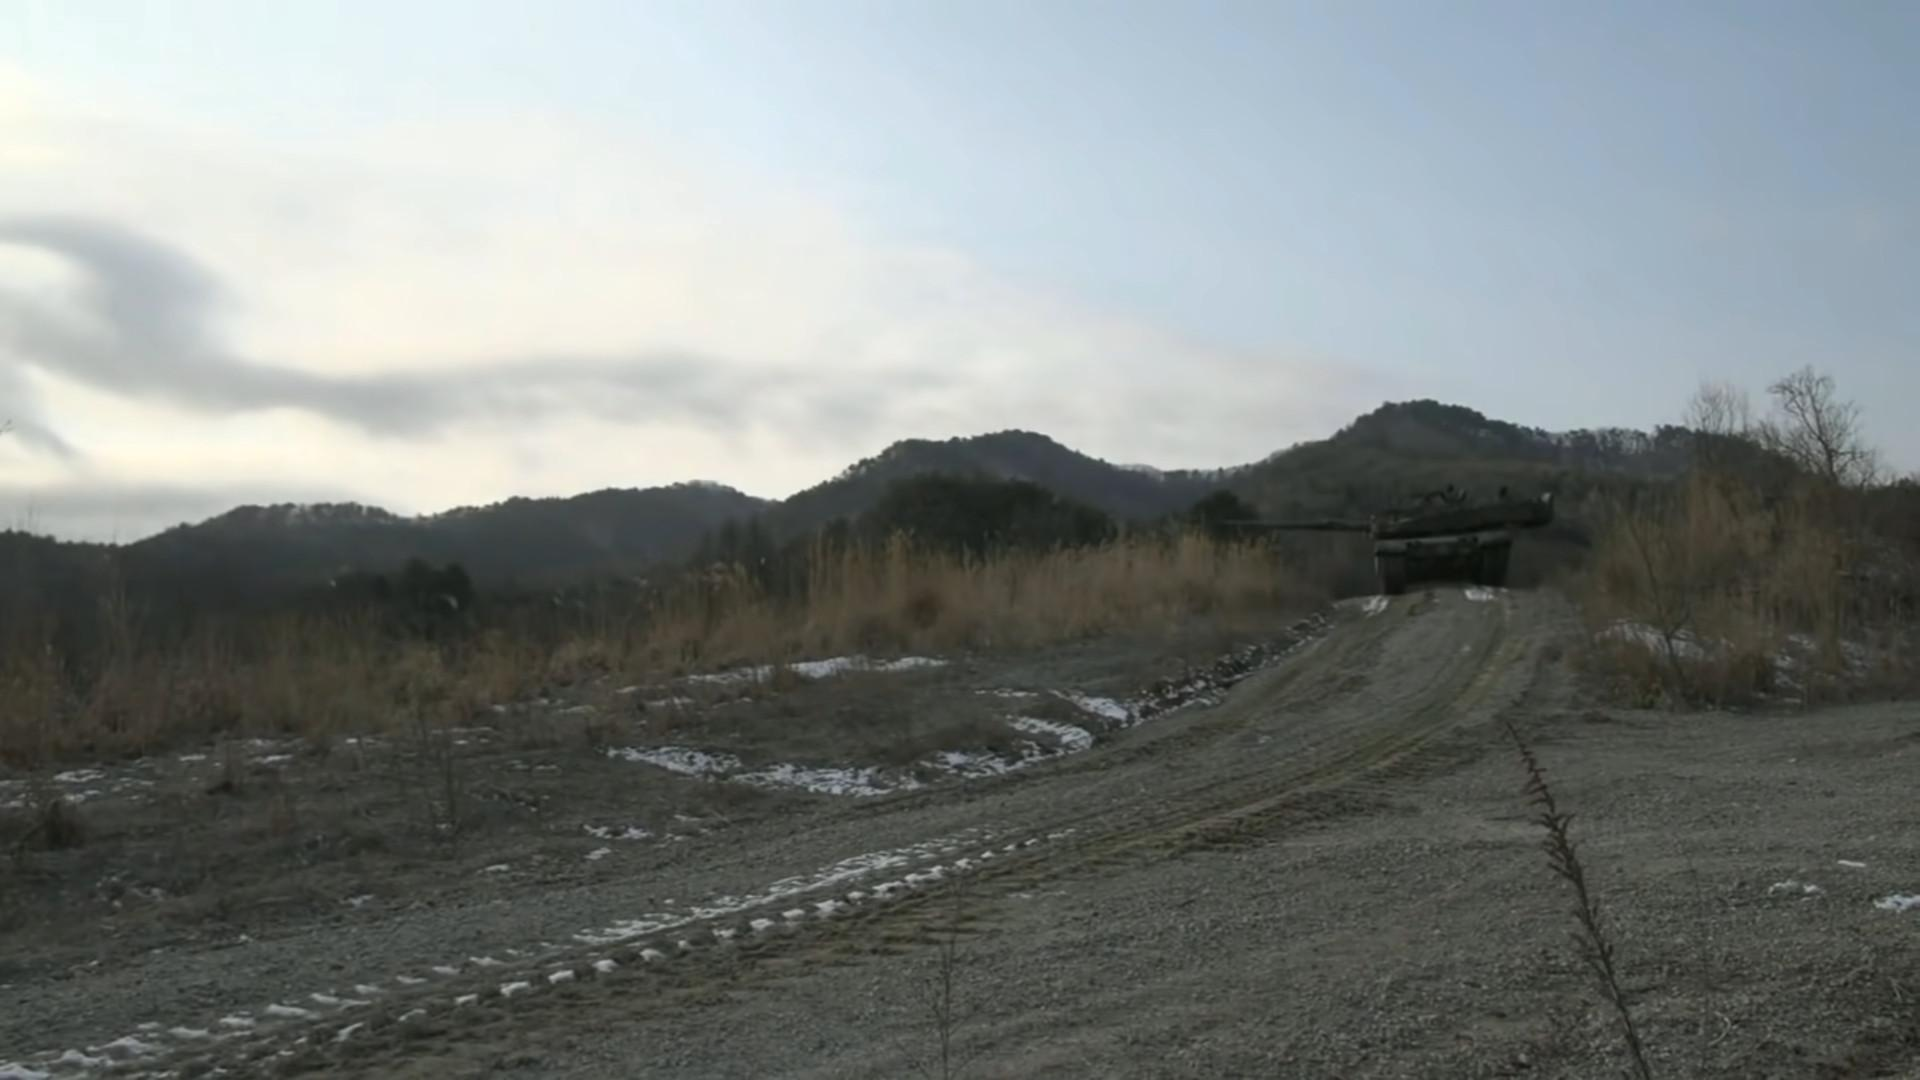tank: (1220, 484, 1555, 593)
